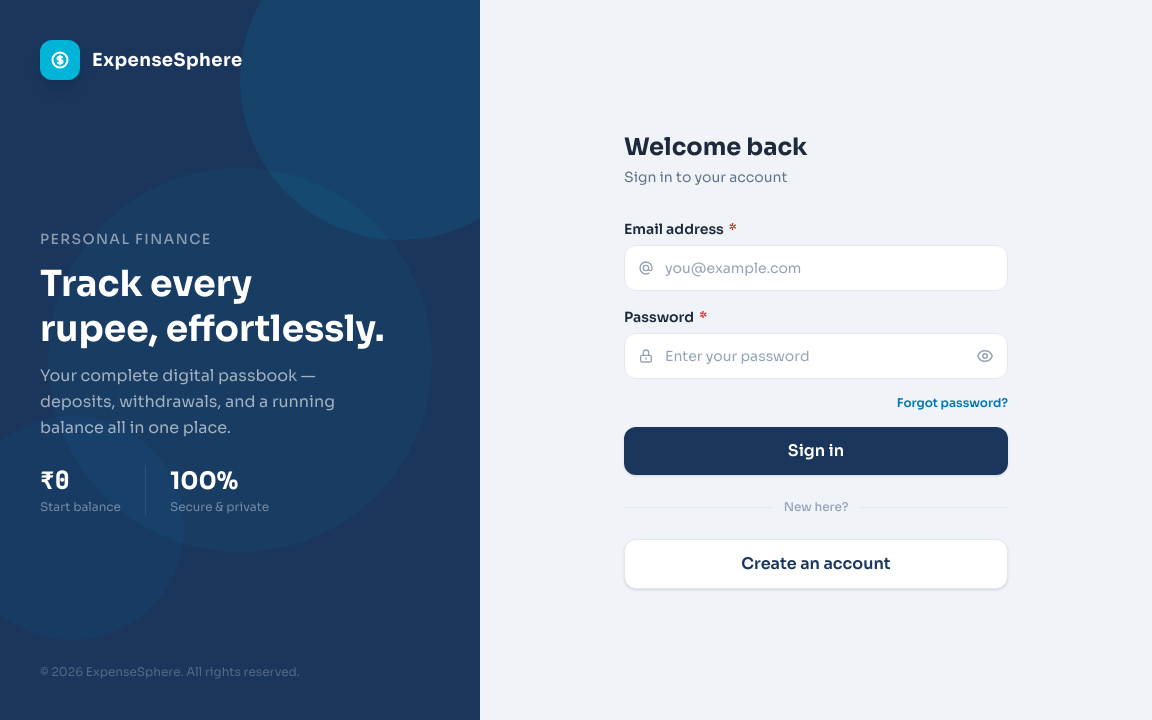
LoginView › validates password presence and prevents login
Type "user@test.com" into the field with placeholder "you@example.com" at (816, 268), box [624,245,1008,291]
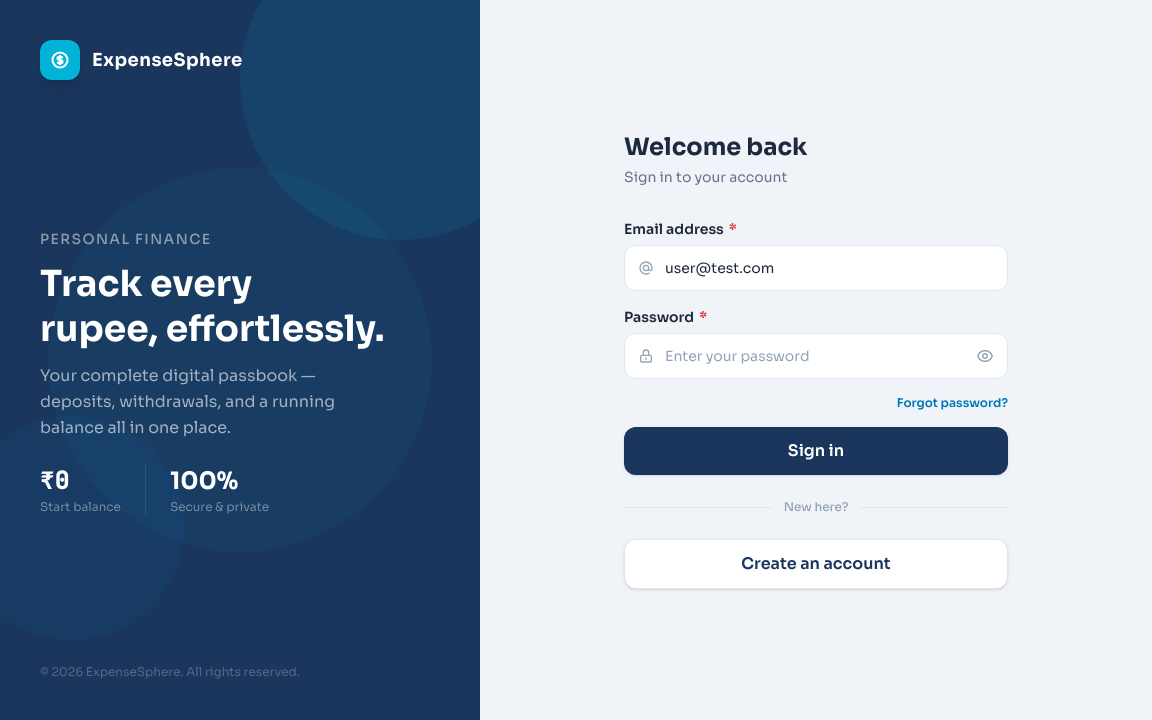
Submit the form, box [624,219,1008,475]
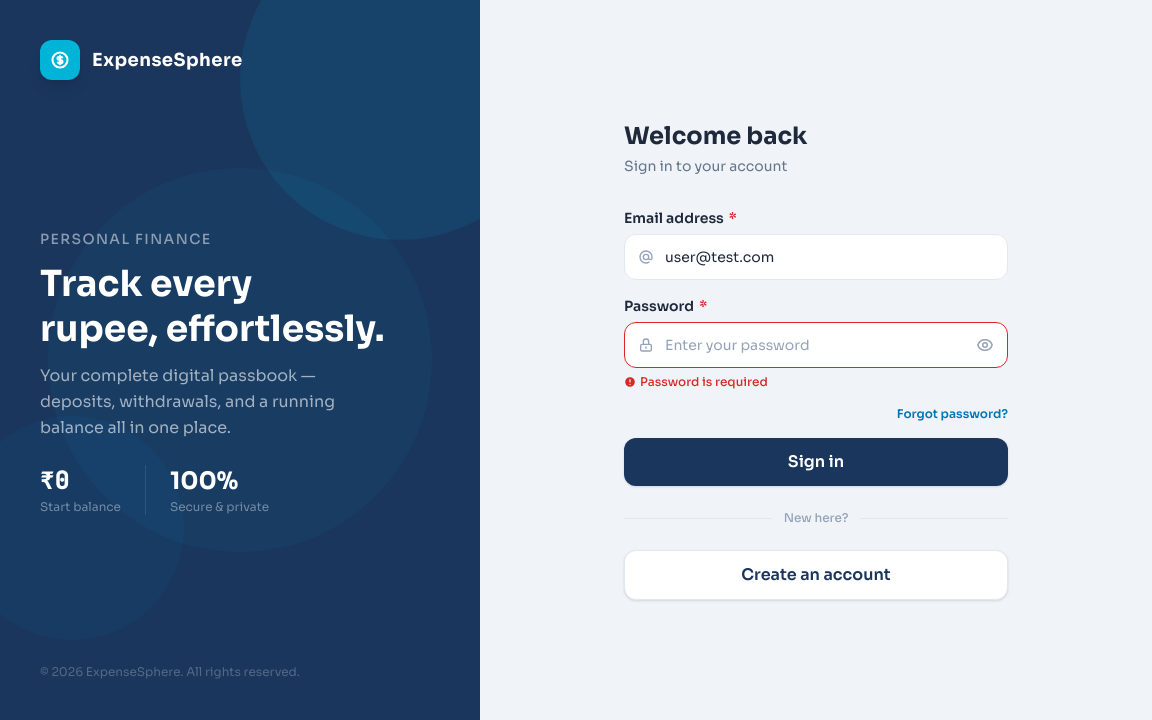
Now the text "Password is required" is shown, box [624,374,768,389]
